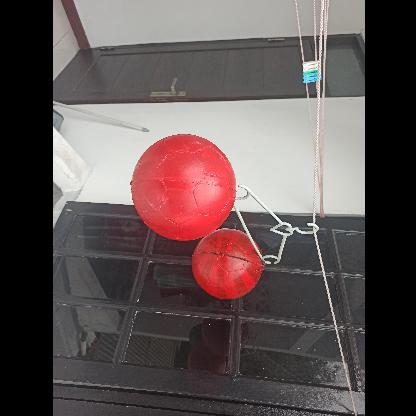red_ball: (132, 134, 236, 240), (193, 231, 263, 301)
